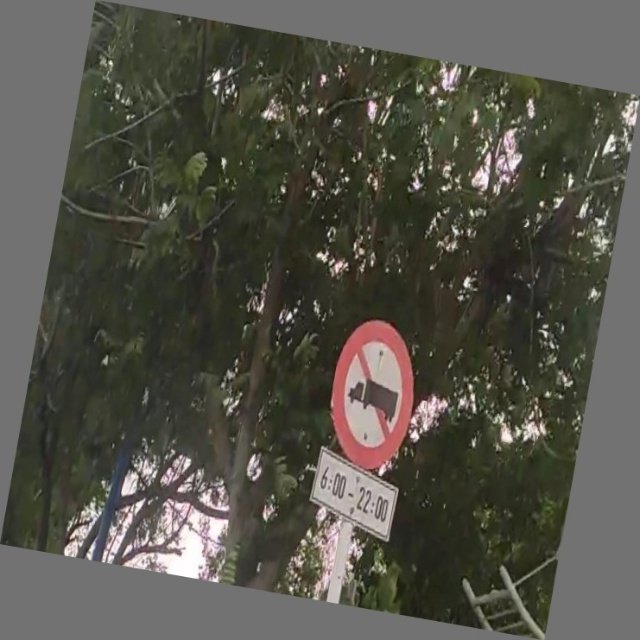B.8a: (306, 318, 428, 535)
